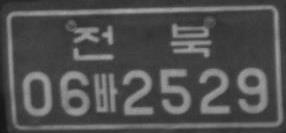0: (20, 70, 52, 116)
2: (198, 67, 231, 115), (121, 68, 153, 115)
5: (158, 67, 191, 114)
6: (59, 70, 90, 116)
9: (237, 66, 269, 113)
바: (92, 73, 118, 113)
전북_D: (73, 22, 212, 60)
